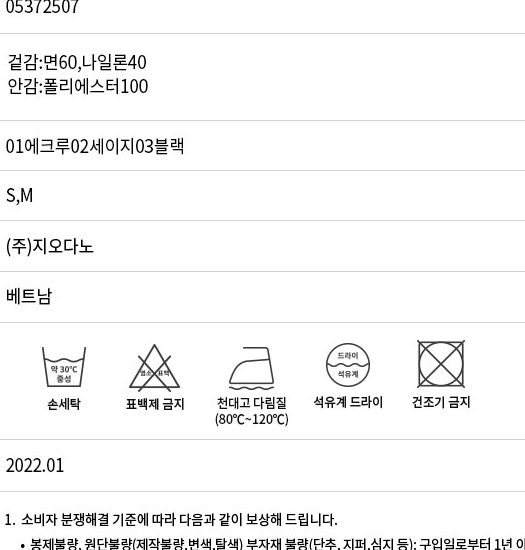KR_dry_clean_petroleum: (319, 336, 375, 389)
KR_hand_wash_30_neutral: (35, 344, 92, 392)
KR_no_chlorine_bleach: (125, 342, 184, 395)
KR_no_tumble_dry: (411, 333, 471, 392)
